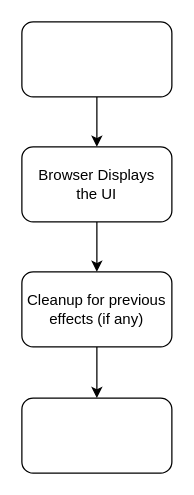
Image size: 194x495. Some labels were removed from this diagram. Each missing label, with the box of its shape:
React Renders UI: (21, 21, 172, 97)
Run effects for current render: (21, 397, 172, 473)
